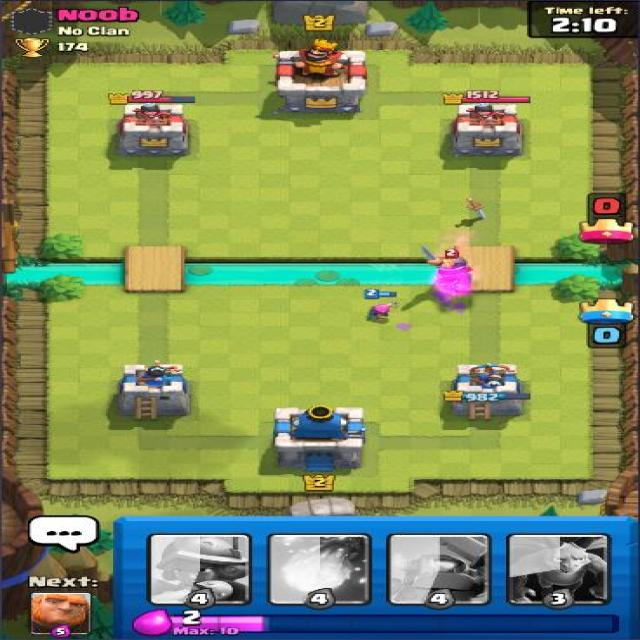Enemy-Knight: (418, 242, 477, 292)
Player-Archer: (362, 288, 403, 325)
